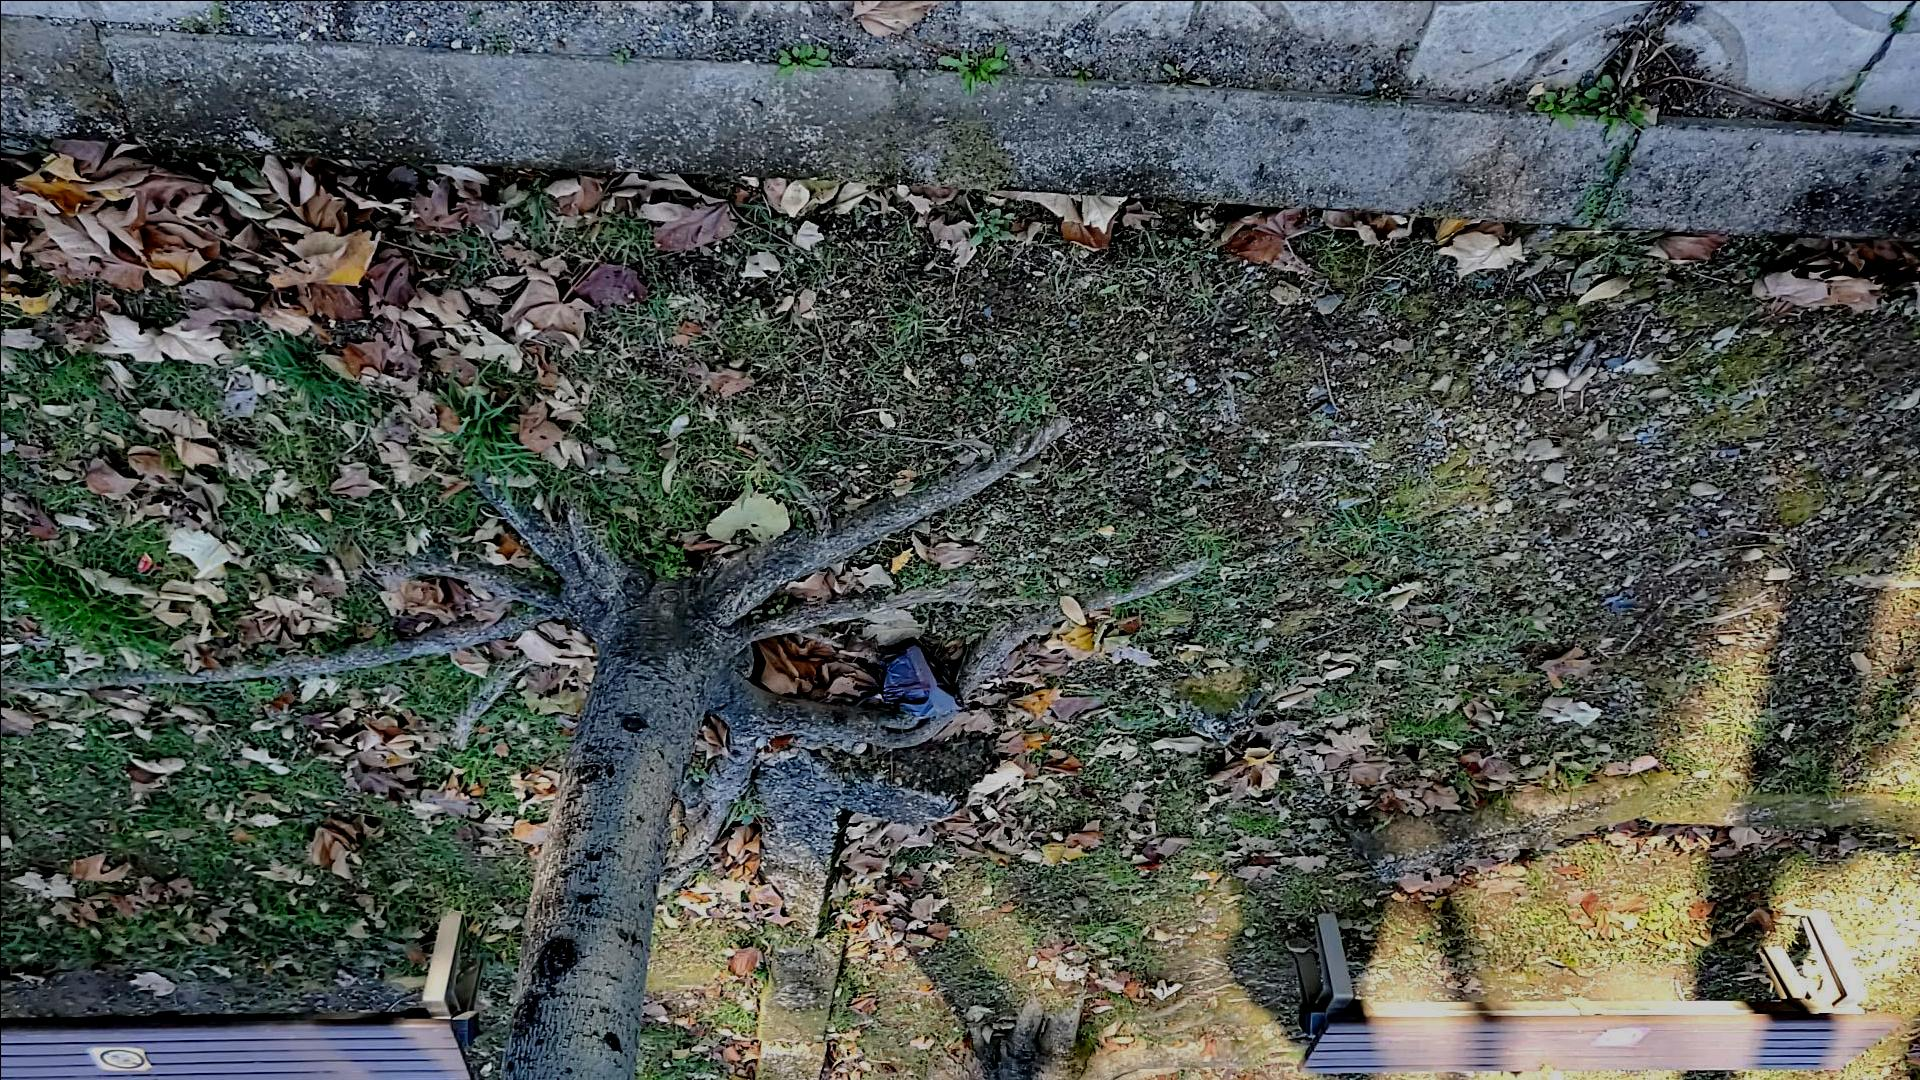black_bag: (852, 636, 972, 721)
